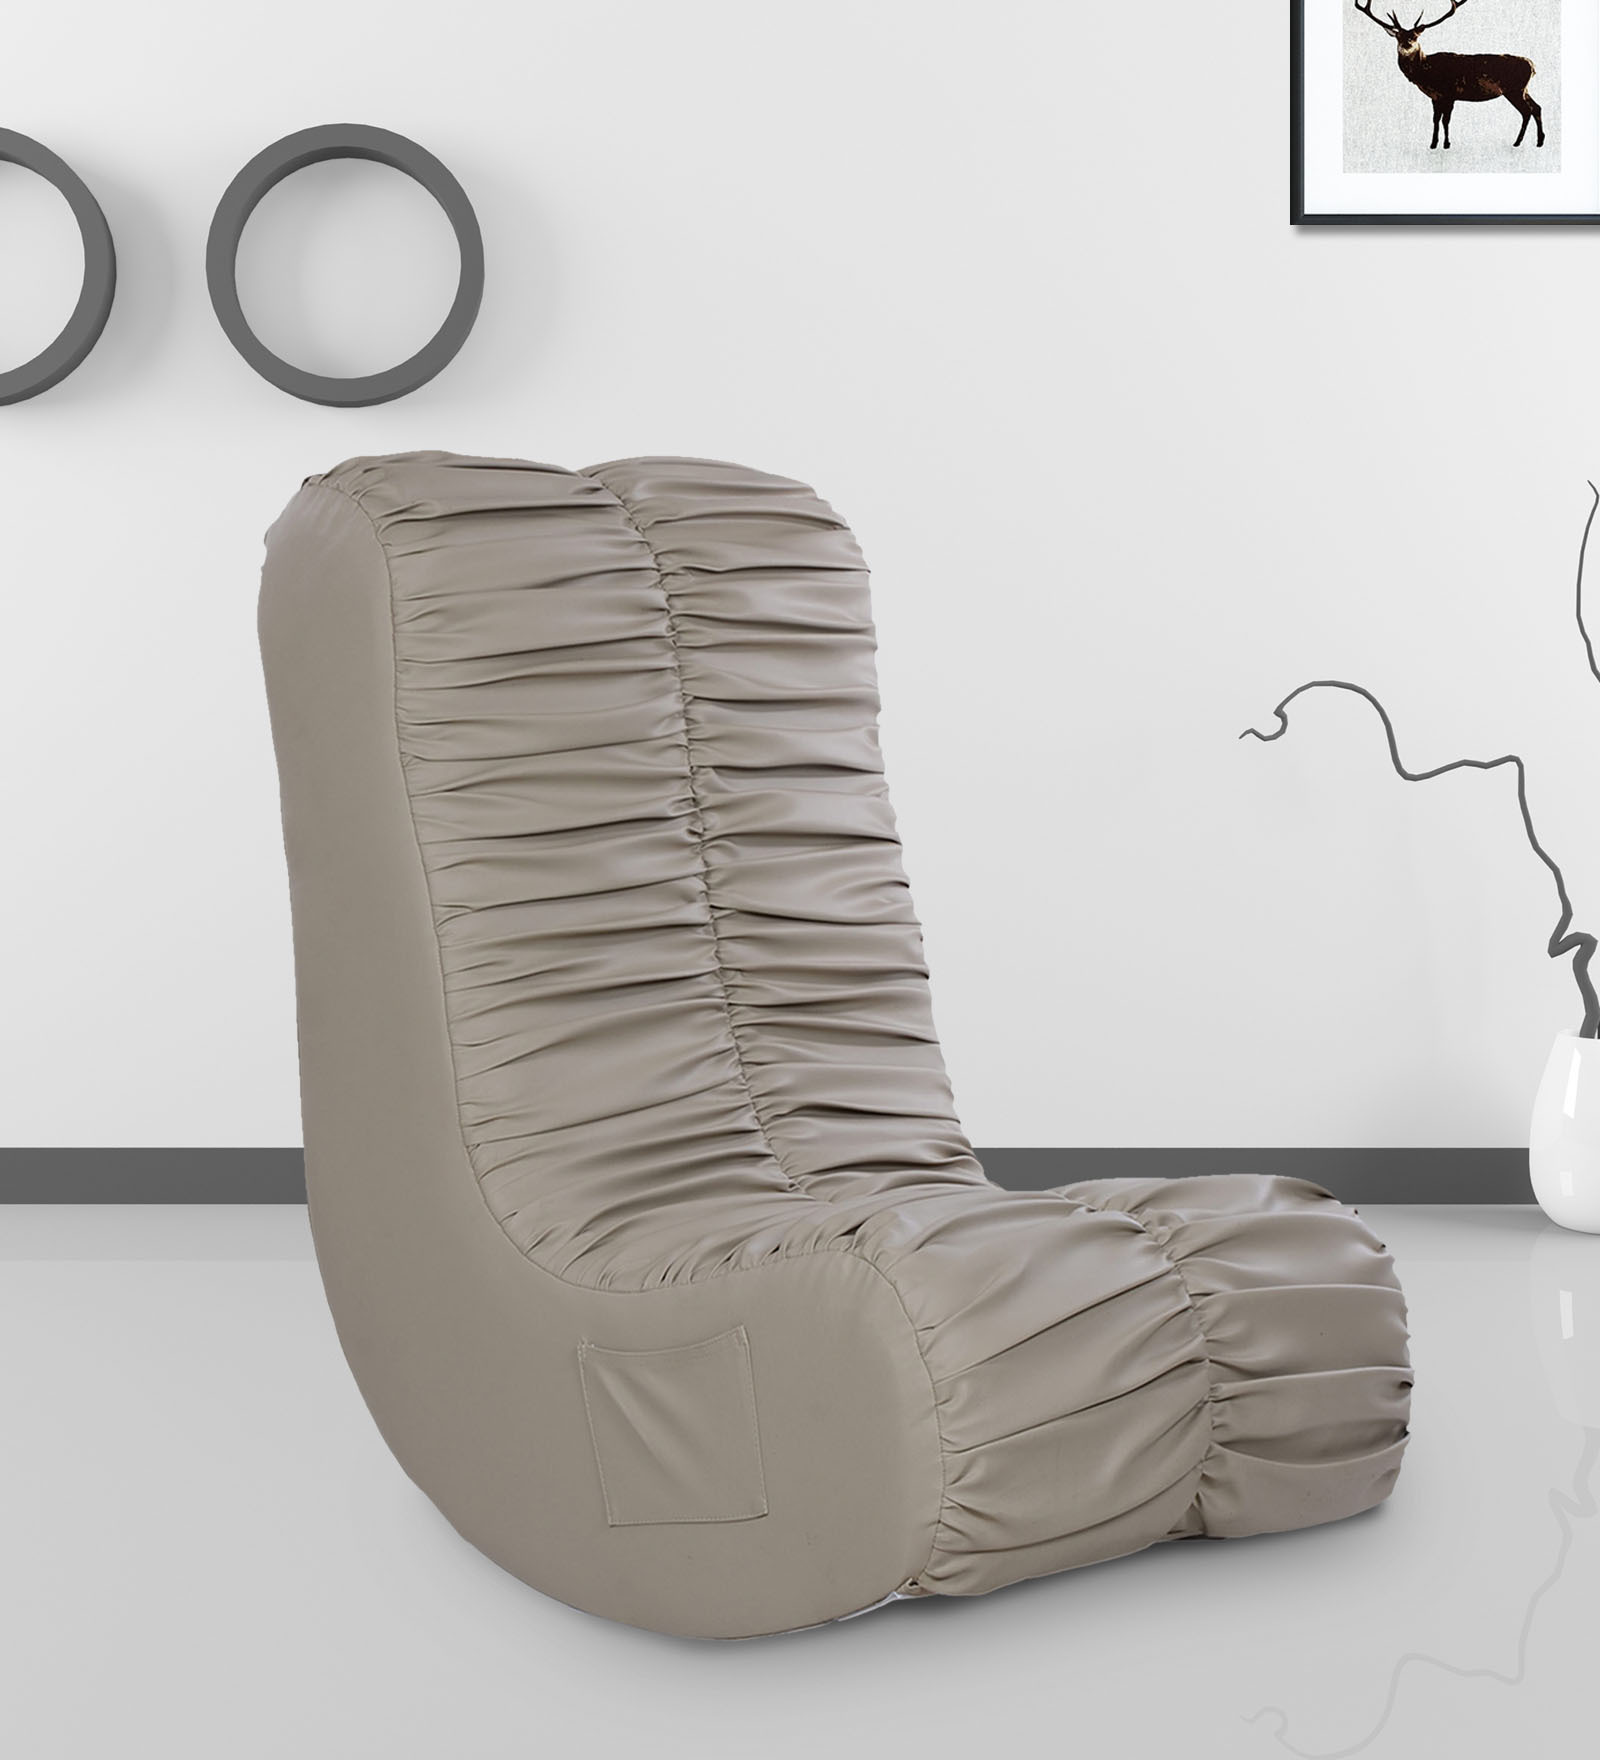Low Seat Rocking Chair in Beige Leatherette by Durian: (254, 440, 1419, 1656)
